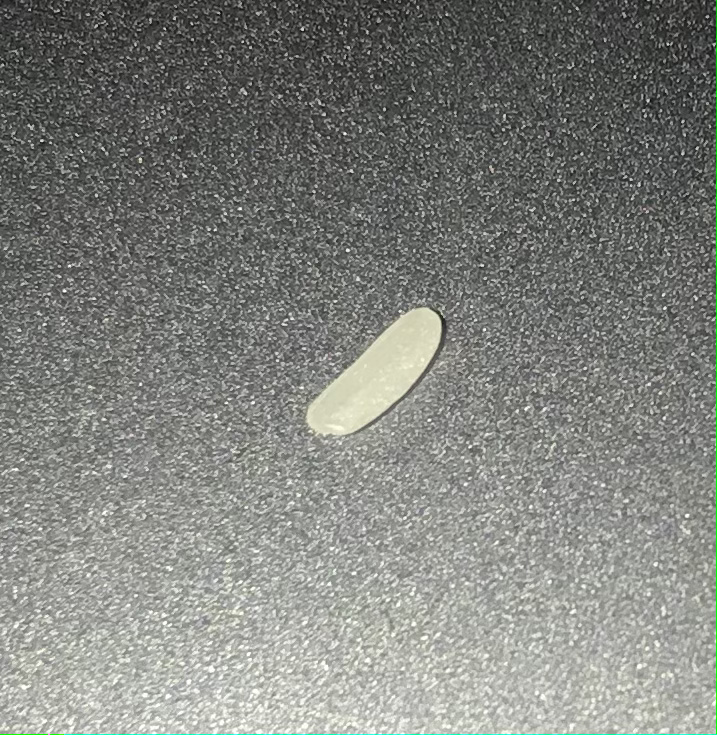Gao Tam Thom: (302, 304, 452, 441)
